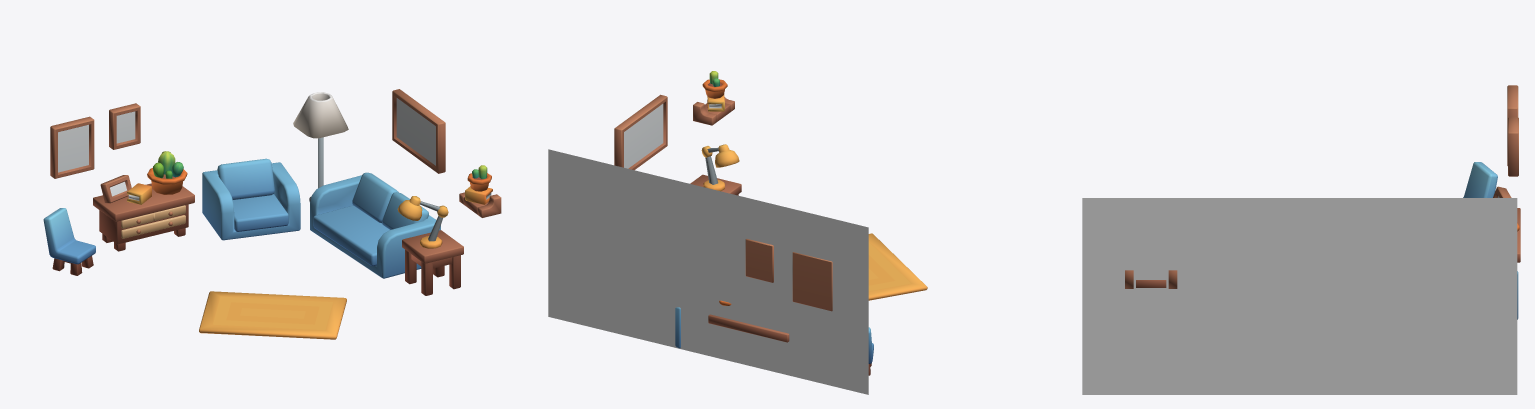
The model's file is room.glb.
The picture shows the model from 3 angles, left to right: view 1: azimuth 30°, elevation 25°; view 2: azimuth 150°, elevation 25°; view 3: azimuth 270°, elevation 25°; orthographic projection. The views are drawn at different scales.
Parts seen in each view (by area): view 1: couch.001, armchair.001, cabinet_medium_decorated.001, rug_rectangle_stripes_A.001, pictureframe_large_B.001, table_small.001, pictureframe_large_A.001, lamp_standing.001, chair_C.001, shelf_B_small_decorated.001, pictureframe_medium.001, lamp_desk.001; view 2: Cube, pictureframe_large_B.001, rug_rectangle_stripes_A.001, pictureframe_large_A.001, shelf_B_small_decorated.001, pictureframe_medium.001, lamp_desk.001, cabinet_medium_decorated.001; view 3: Cube, chair_C.001, pictureframe_medium.001, shelf_B_small_decorated.001, pictureframe_large_A.001.
Part boxes in pixels (box(x1,y1,x2,y2)): couch.001: box(310, 172, 440, 278); armchair.001: box(202, 158, 300, 240); cabinet_medium_decorated.001: box(93, 151, 194, 251); rug_rectangle_stripes_A.001: box(199, 291, 346, 339); pictureframe_large_B.001: box(392, 89, 445, 173); table_small.001: box(402, 230, 463, 295); pictureframe_large_A.001: box(50, 116, 94, 178); lamp_standing.001: box(293, 92, 348, 201); chair_C.001: box(43, 208, 95, 275); shelf_B_small_decorated.001: box(459, 165, 501, 217); pictureframe_medium.001: box(109, 103, 140, 149); lamp_desk.001: box(397, 196, 448, 248); Cube: box(548, 149, 868, 394); pictureframe_large_B.001: box(614, 94, 667, 170); rug_rectangle_stripes_A.001: box(868, 233, 927, 300); pictureframe_large_A.001: box(792, 252, 832, 311); shelf_B_small_decorated.001: box(693, 71, 734, 125); pictureframe_medium.001: box(745, 239, 773, 282); lamp_desk.001: box(701, 144, 739, 191); cabinet_medium_decorated.001: box(708, 300, 789, 342); Cube: box(1082, 198, 1517, 394); chair_C.001: box(1463, 162, 1497, 197); pictureframe_medium.001: box(1508, 117, 1518, 176); shelf_B_small_decorated.001: box(1125, 270, 1177, 288); pictureframe_large_A.001: box(1507, 85, 1518, 165).
Bounding box in the file's own units: 8 × 4 × 8.06.
Materials: 1 (1 with a texture image).
